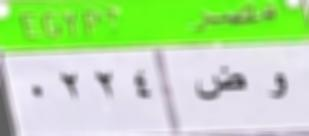0: (28, 78, 46, 109)
2: (56, 64, 86, 109), (93, 62, 121, 107)
4: (130, 68, 158, 106)
daad: (193, 63, 248, 106)
waw: (258, 67, 293, 110)
